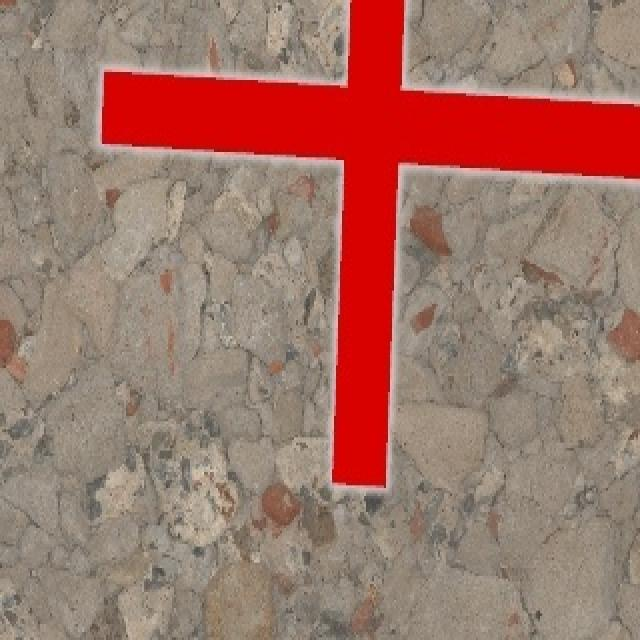x_marker: (99, 0, 639, 488)
